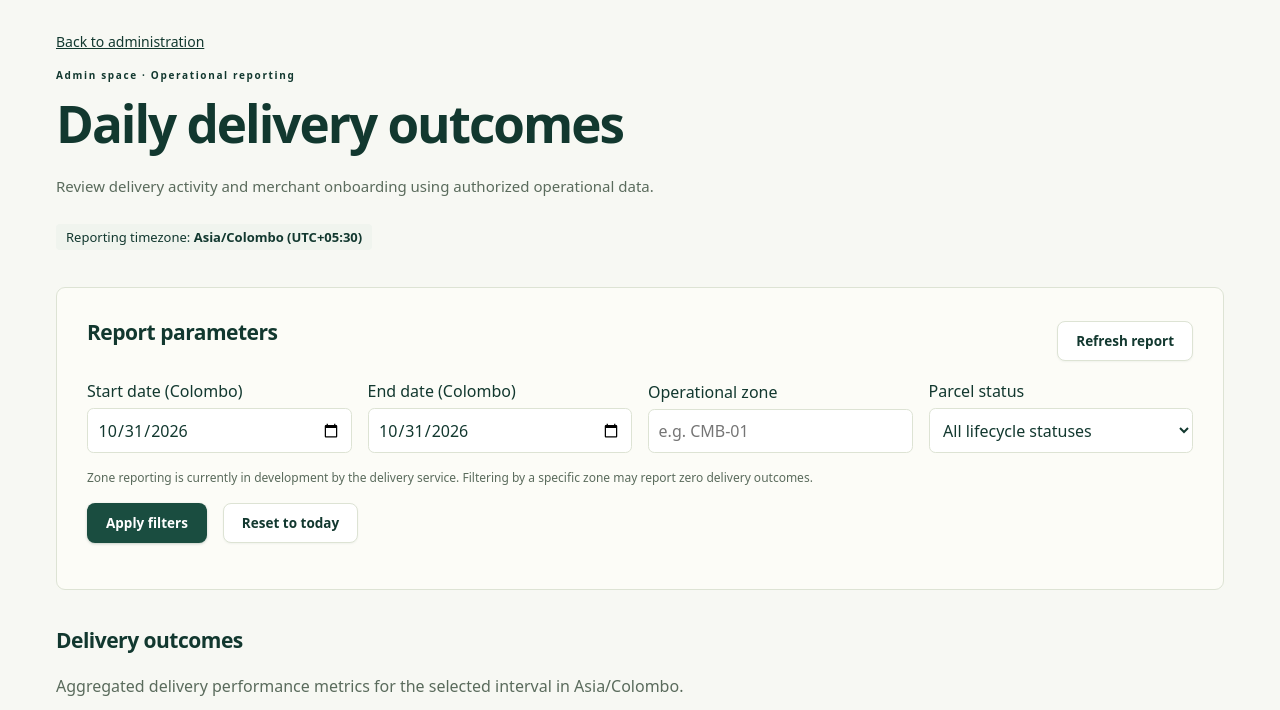
AdminReportsPage — Filters & Bounded Inputs › displays validation error if start date is after end date
Expected: the heading "Daily delivery outcomes" is shown, [56,88,623,158]
Type "2026-10-28" into the date field labelled "Start date (Colombo)".
click(219, 430); type("2026-10-28")  # box [87,408,352,453]
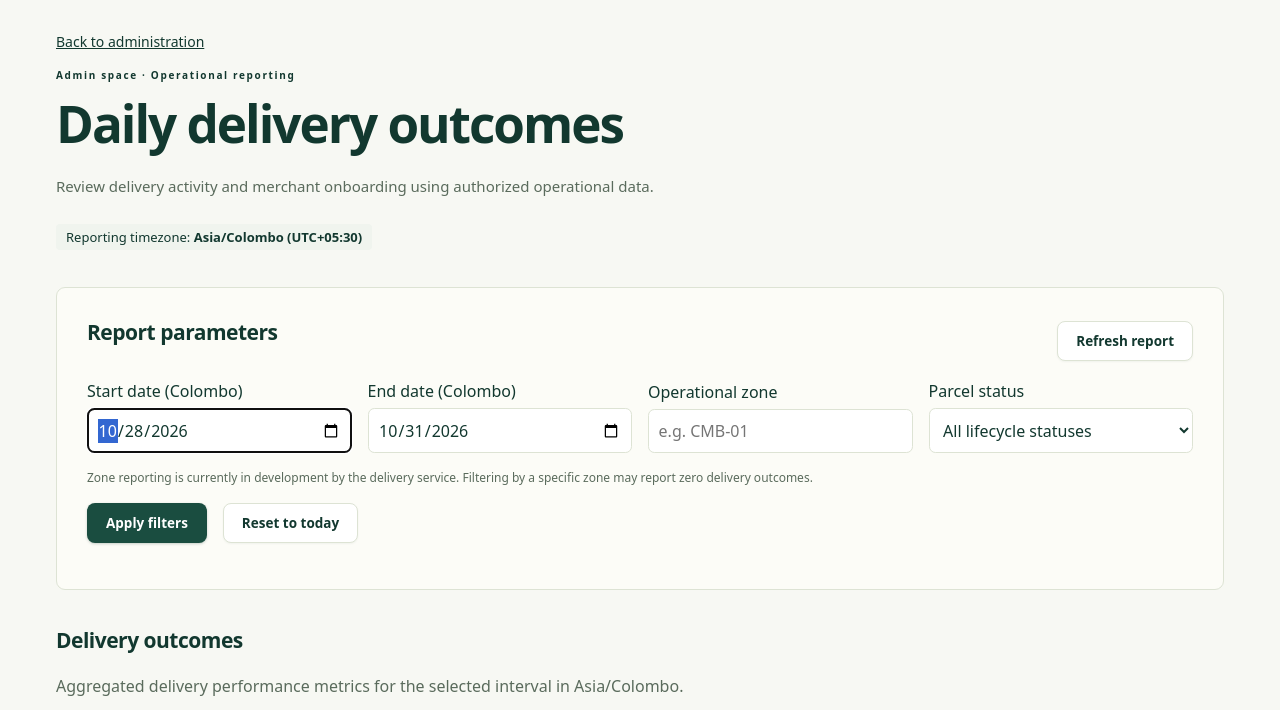
Type "2026-10-20" into the date field labelled "End date (Colombo)".
click(500, 430); type("2026-10-20")  # box [368,408,632,453]
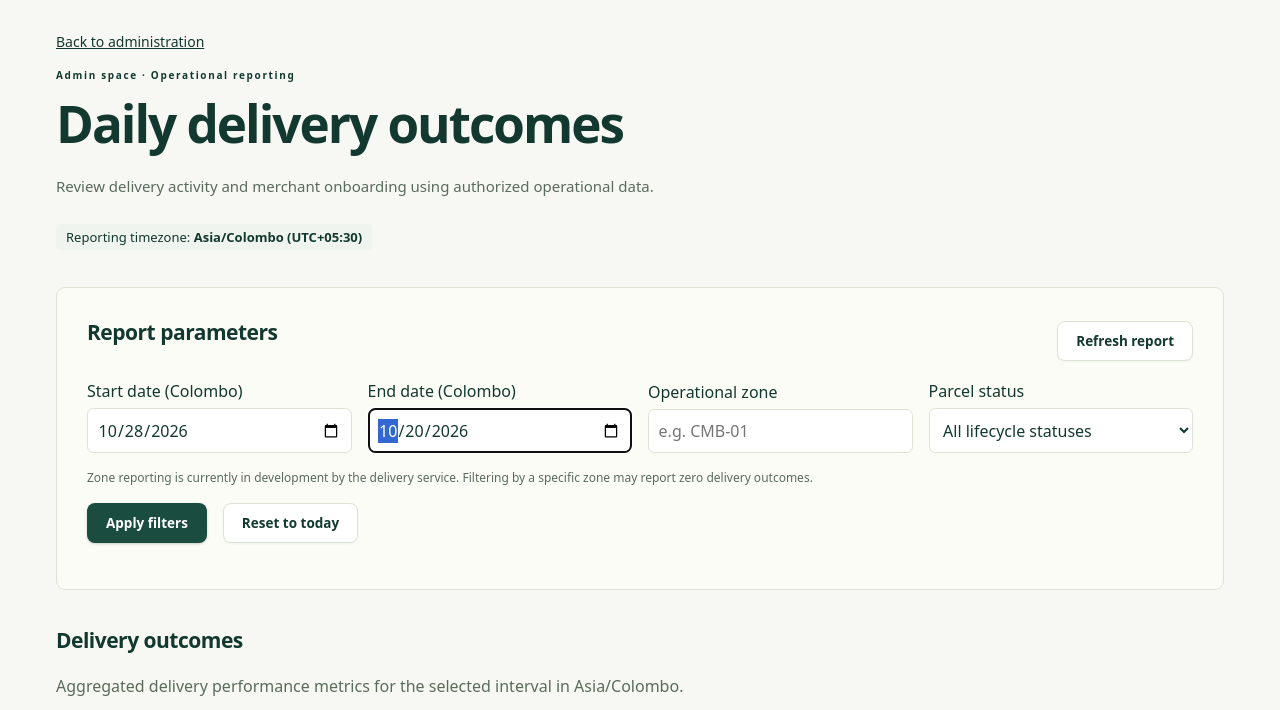
Click the button "Apply filters".
click(147, 523)  # box [87,503,207,543]
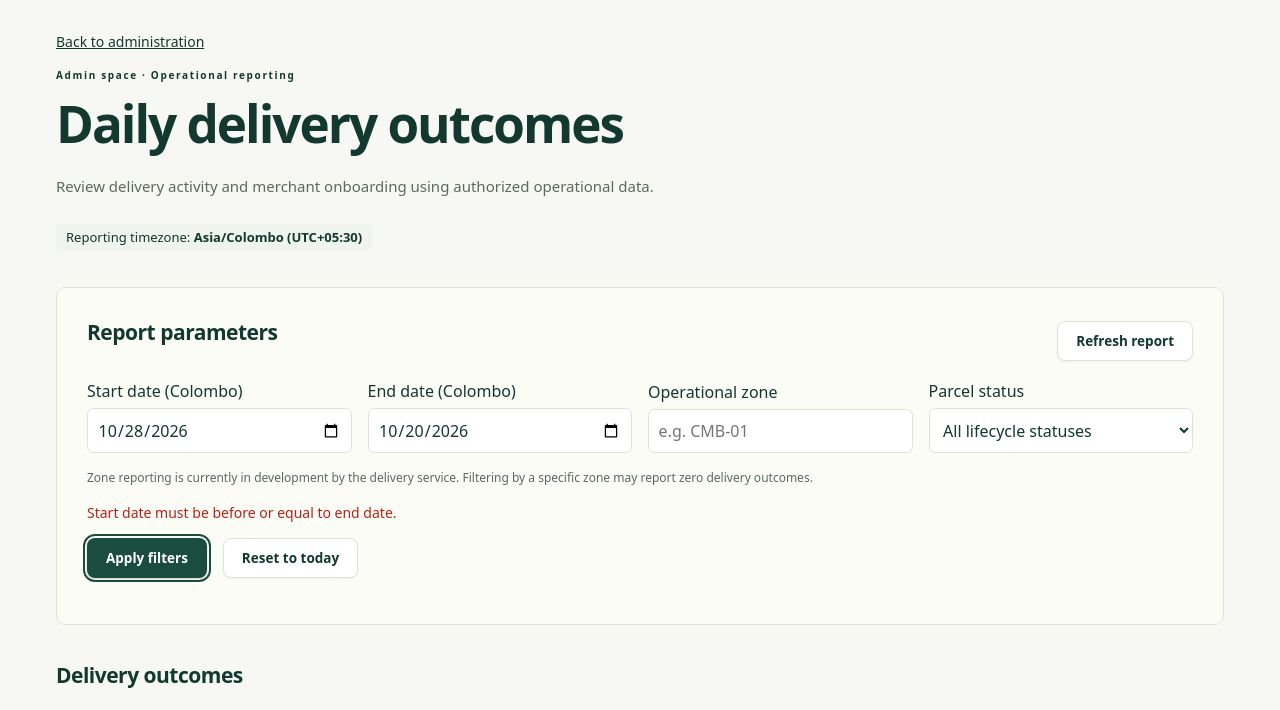
Expected: the message reads "Start date must be before or equal to end date.", [87,503,396,522]
